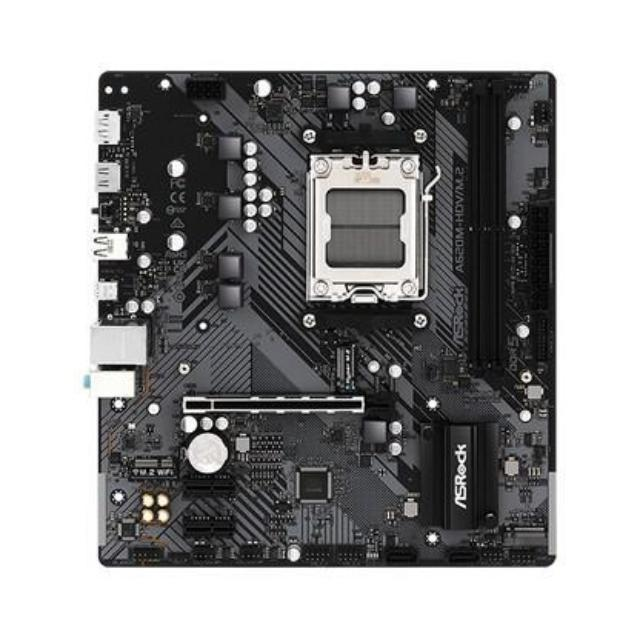Mainboard: (98, 70, 554, 572)
